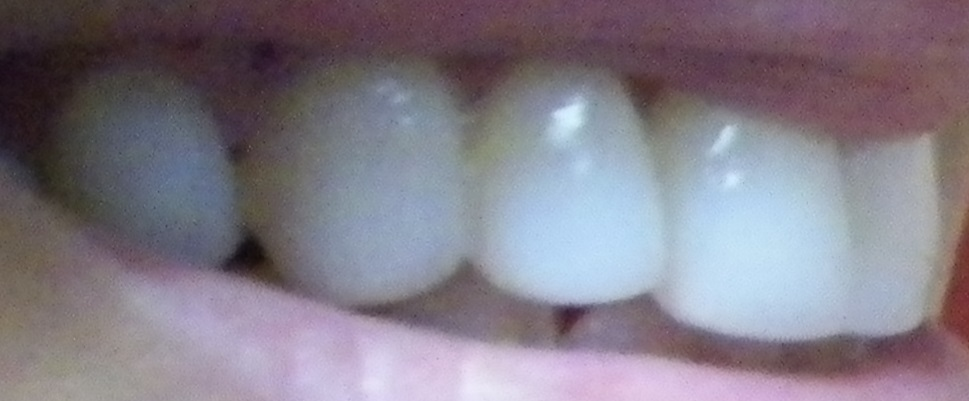boca: (66, 47, 944, 359)
